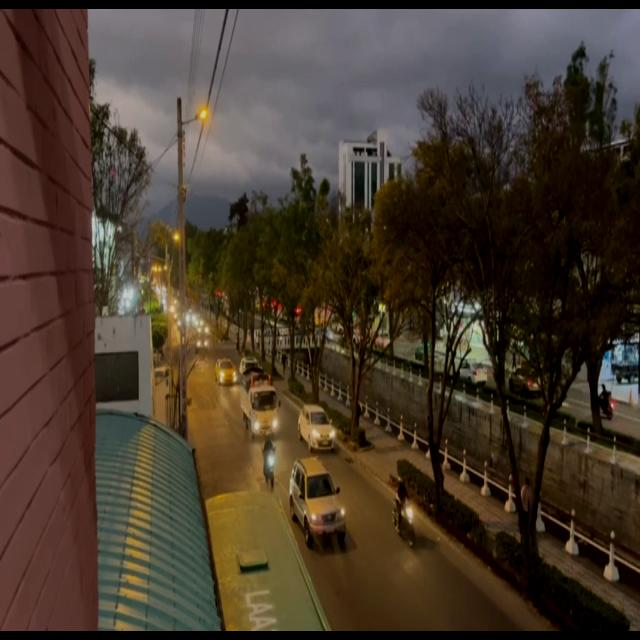MOTORCYCLE: (393, 496, 419, 548), (263, 445, 279, 488)
SED: (299, 409, 332, 450), (216, 359, 235, 383)
SUV: (292, 468, 342, 546)
TRUCK: (240, 371, 280, 438)
